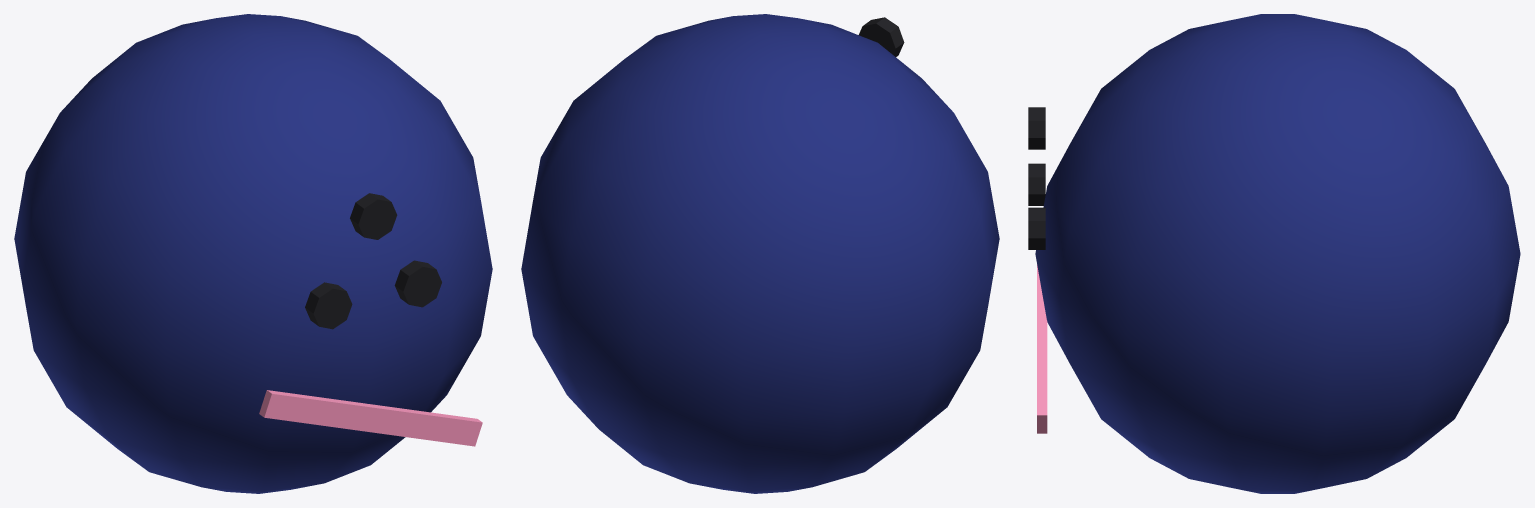
The model's file is p_bowling.glb.
The picture shows the model from 3 angles, left to right: view 1: azimuth 30°, elevation 25°; view 2: azimuth 150°, elevation 25°; view 3: azimuth 270°, elevation 25°; orthographic projection.
Visible parts, largest first — view 1: bowling; view 2: bowling; view 3: bowling.
Boxes of the visible parts, box(x1,y1,x2,y2) form: bowling: box(14, 14, 492, 493); bowling: box(521, 14, 999, 493); bowling: box(1028, 14, 1520, 493).
Bounding box in the file's own units: 0.546 × 0.56 × 0.568.
